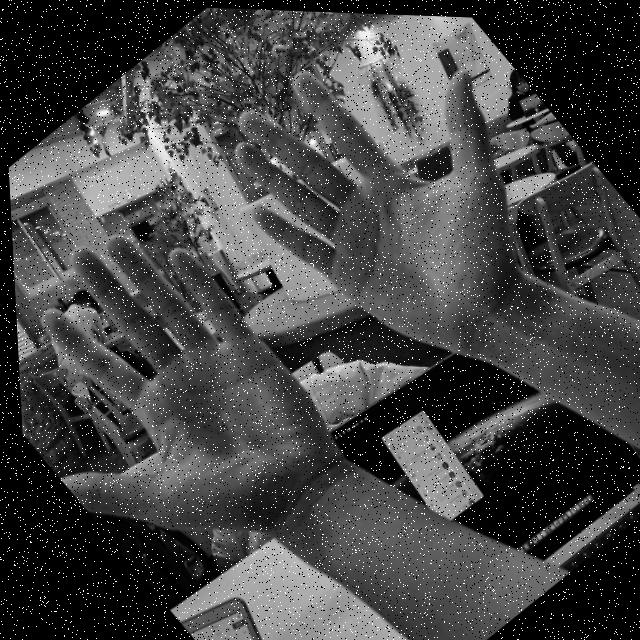hand: (179, 5, 616, 406), (7, 176, 381, 624)
